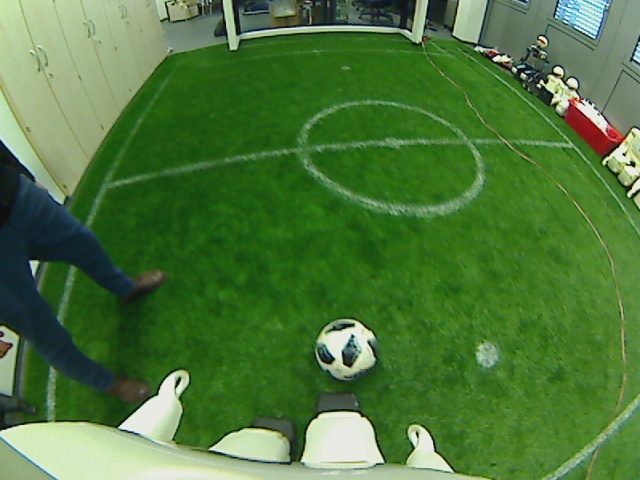ball: (312, 317, 379, 380)
